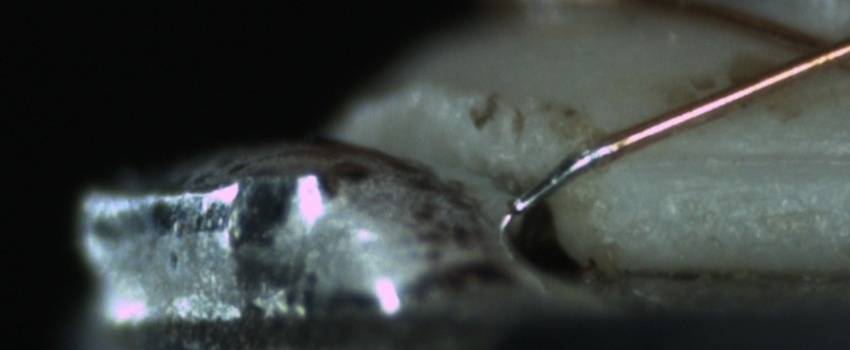CL: (772, 15, 848, 78)
DL: (620, 123, 843, 192)
TS: (510, 141, 617, 214)
